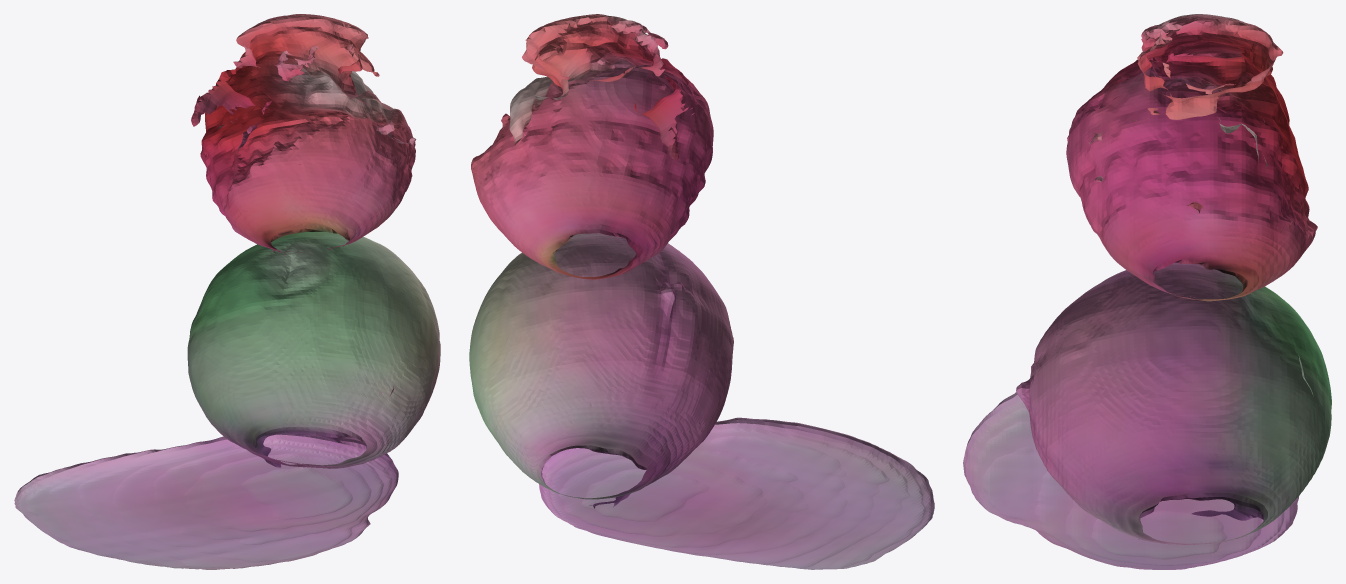
The picture shows the model from 3 angles, left to right: view 1: azimuth 30°, elevation 25°; view 2: azimuth 150°, elevation 25°; view 3: azimuth 270°, elevation 25°; orthographic projection. The views are drawn at different scales.
Visible parts, largest first — view 1: geometry_0; view 2: geometry_0; view 3: geometry_0.
Part boxes in pixels (x1=…): geometry_0: x1=14, y1=14, x2=440, y2=569; geometry_0: x1=469, y1=14, x2=934, y2=569; geometry_0: x1=963, y1=14, x2=1331, y2=569.
Size of the model in its own units: 1.46 by 1.6 by 1.02.
